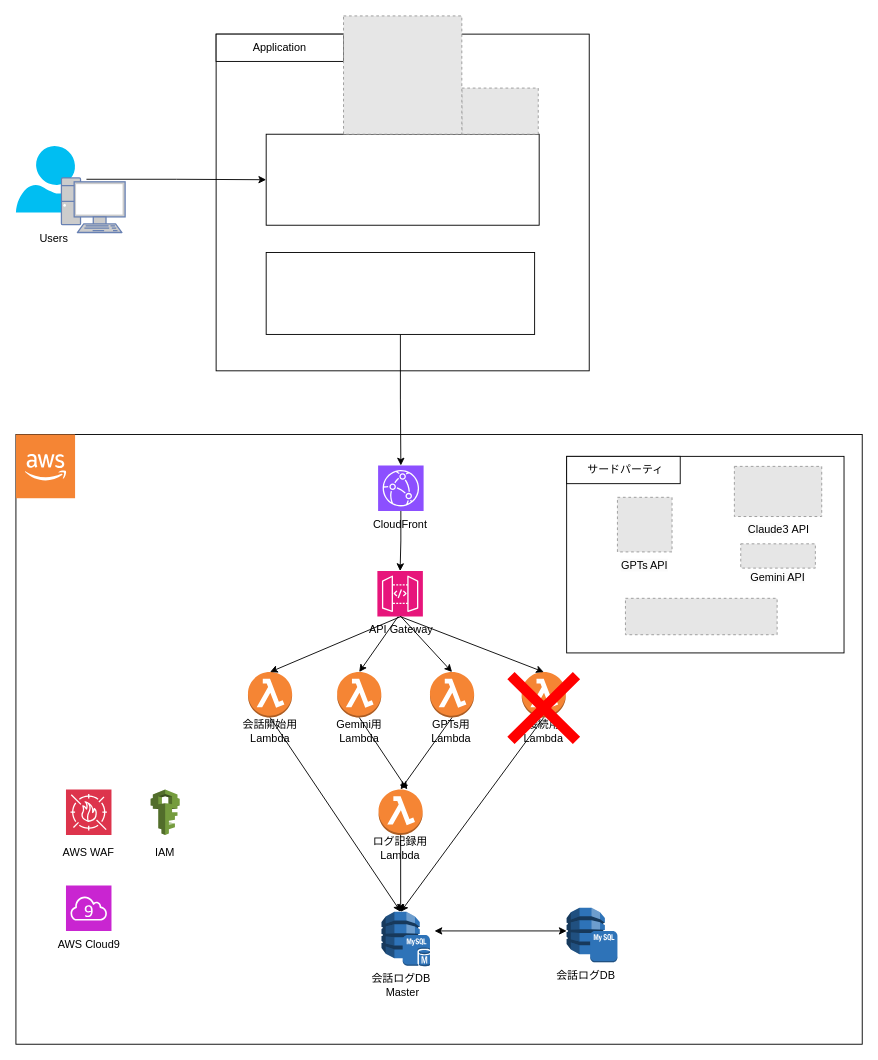
Some shapes in this 878 by 1060 pixel diagram are drawn without their labels. Grey dashed boxes stand in for pictures. The shapes that lost their labels are listed below. From the top down, each one's centre as x and y in pixels, then its label:
point 402,179: Frontend
point 400,293: B ack end
